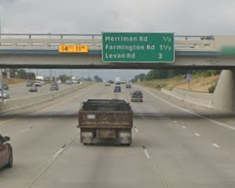1: (60, 44, 65, 52), (74, 44, 79, 52), (77, 44, 81, 52)
4: (62, 45, 68, 52)
overheadsign: (57, 43, 89, 53)
